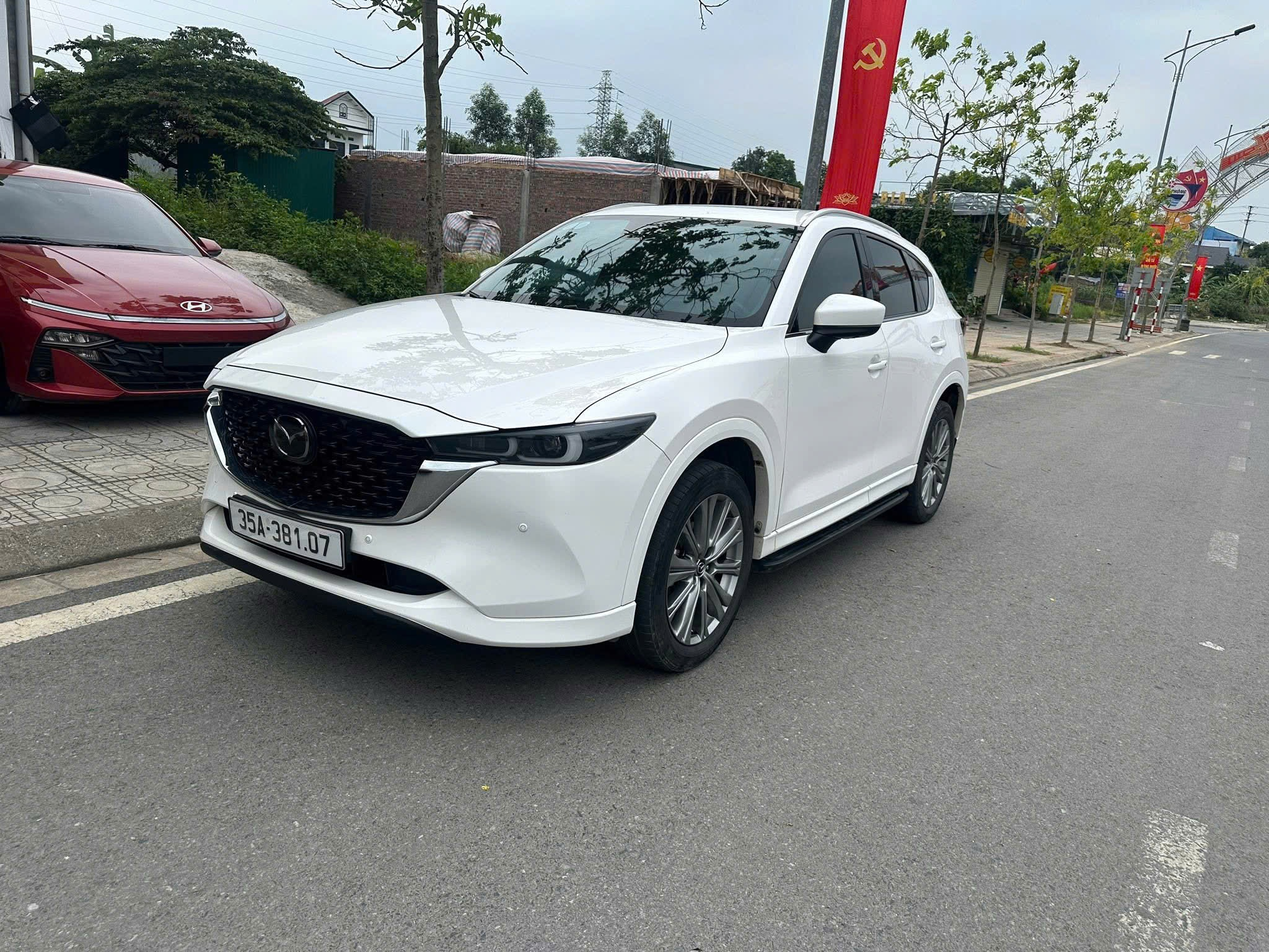Bien-so: (227, 496, 348, 574)
